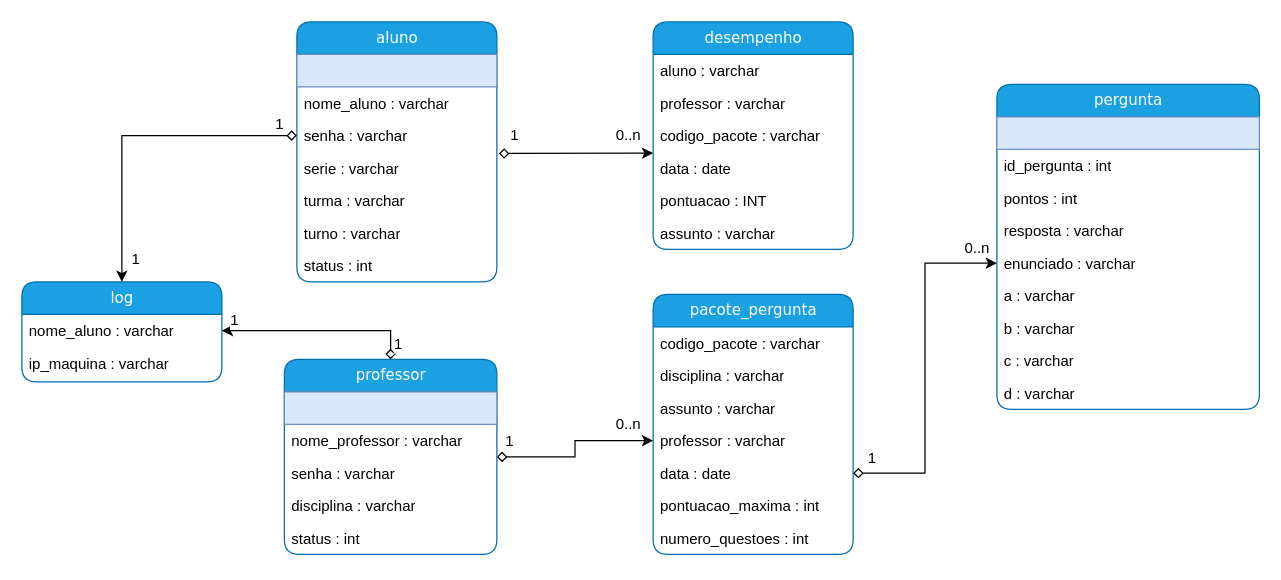
Image size: 1281x580. Some labels were removed from this diagram. Each missing label, with the centre of its shape:
"codigo_pacote :varchar foreign key" belongs at (x=1127, y=132).
"id_aluno : int primary key" belongs at (x=396, y=70).
"id_professor : int primary key" belongs at (x=390, y=407).
